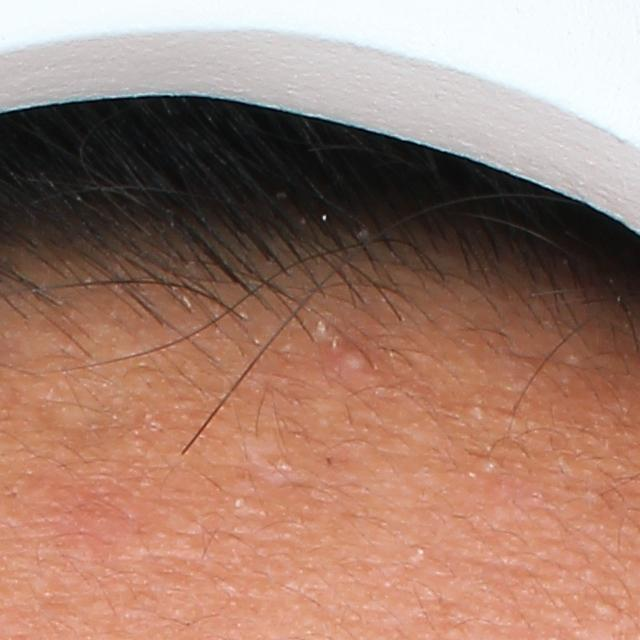comedo: (471, 453, 510, 482)
papule: (341, 343, 376, 377)
